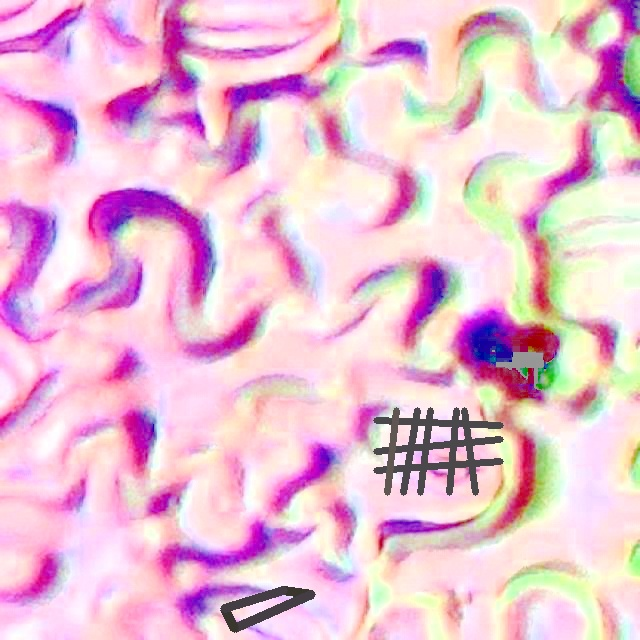close: (373, 407, 502, 495), (220, 586, 315, 632)
